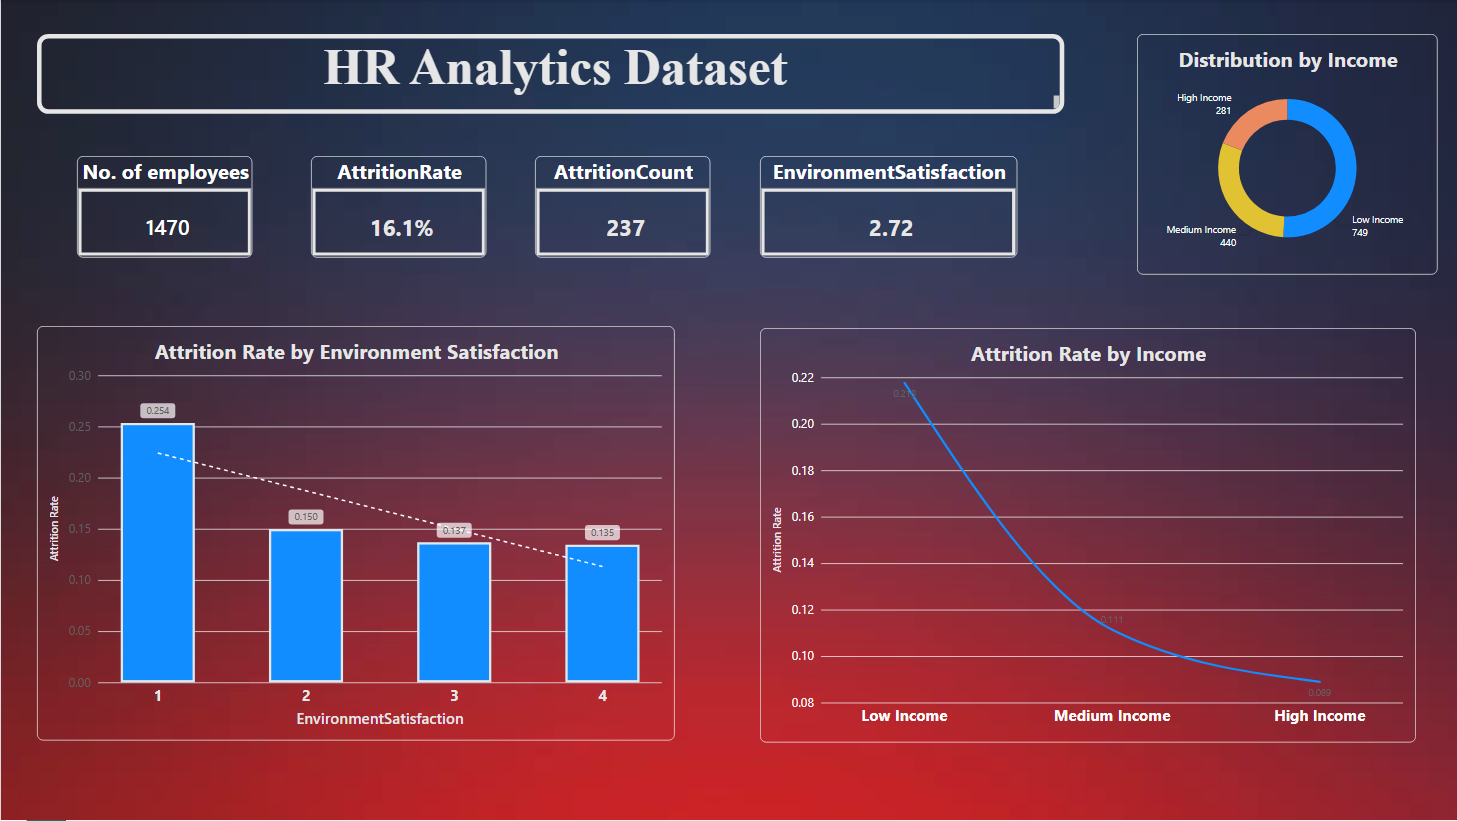

Layout of this report page (visuals, bound fields, positions):
{"tool":"powerbi","page":{"name":"Page 1","canvas":[1920,1080],"ordinal":0},"visuals":[{"type":"cardVisual","title":"No. of employees","fields":{"Data":["CountNonNull(WA_Fn-UseC_-HR-Employee-Attriti.EmployeeNumber)"]},"box":[100.2,205.2,231.4,133.6],"z":0},{"type":"cardVisual","title":"AttritionCount ","fields":{"Data":["WA_Fn-UseC_-HR-Employee-Attriti.Attrition Count"]},"box":[703.8,205.2,231.4,133.6],"z":1000},{"type":"cardVisual","title":"AttritionRate","fields":{"Data":["WA_Fn-UseC_-HR-Employee-Attriti.Attrition Rate"]},"box":[408,205.2,231.4,133.6],"z":2000},{"type":"cardVisual","title":"EnvironmentSatisfaction","fields":{"Data":["WA_Fn-UseC_-HR-Employee-Attriti.Avg Environment Satisfaction"]},"box":[999.7,205.2,338.8,133.6],"z":3000},{"type":"lineClusteredColumnComboChart","title":"Attrition Rate by Environment Satisfaction","fields":{"Category":["WA_Fn-UseC_-HR-Employee-Attriti.EnvironmentSatisfaction"],"Y":["WA_Fn-UseC_-HR-Employee-Attriti.Attrition Rate"]},"box":[47.7,429.5,839.8,546.4],"z":4000},{"type":"donutChart","title":"Distribution by Income ","fields":{"Category":["WA_Fn-UseC_-HR-Employee-Attriti.Income Group"],"Y":["CountNonNull(WA_Fn-UseC_-HR-Employee-Attriti.EmployeeNumber)"]},"box":[1496,45.3,396.1,317.3],"z":5000},{"type":"lineChart","title":"Attrition Rate by Income ","fields":{"Category":["WA_Fn-UseC_-HR-Employee-Attriti.Income Group"],"Y":["WA_Fn-UseC_-HR-Employee-Attriti.Attrition Rate"]},"box":[999.7,431.9,863.7,546.4],"z":6000},{"type":"textbox","title":"HR Analytics Dataset","box":[47.7,45.3,1352.8,105],"z":7000}]}

Visuals, with their boxes in screenshot pixels (x1, y1, x2, y2), scaled from the page's 1920x1080 canvas onto the 1457x821 screenshot:
"No. of employees" cardVisual: bbox=[76, 156, 252, 258]
"AttritionCount " cardVisual: bbox=[534, 156, 710, 258]
"AttritionRate" cardVisual: bbox=[310, 156, 485, 258]
"EnvironmentSatisfaction" cardVisual: bbox=[759, 156, 1016, 258]
"Attrition Rate by Environment Satisfaction" lineClusteredColumnComboChart: bbox=[36, 326, 673, 742]
"Distribution by Income " donutChart: bbox=[1135, 34, 1436, 276]
"Attrition Rate by Income " lineChart: bbox=[759, 328, 1414, 744]
"HR Analytics Dataset" textbox: bbox=[36, 34, 1063, 114]
